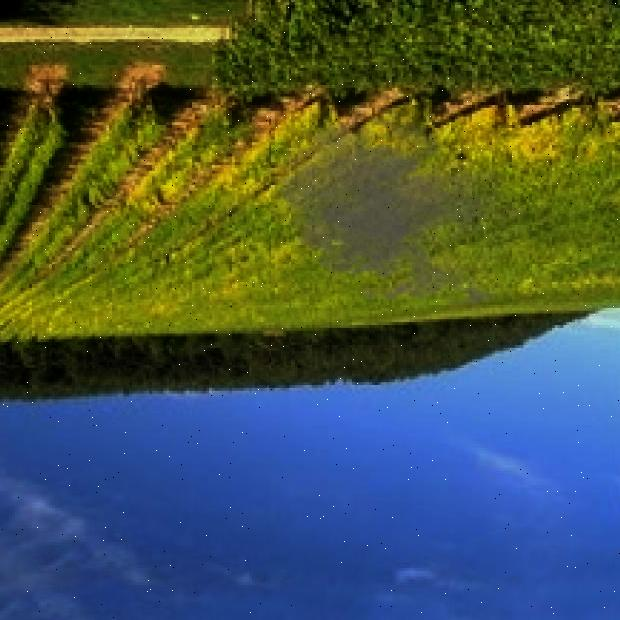smoke: (263, 102, 535, 314)
